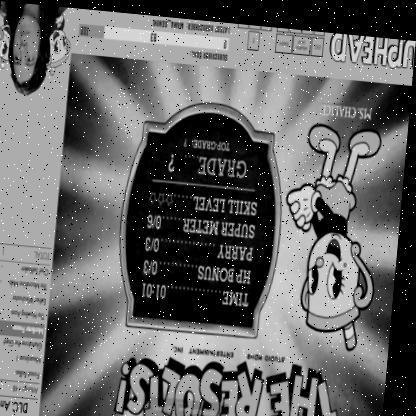streamer: (0, 0, 80, 98)
